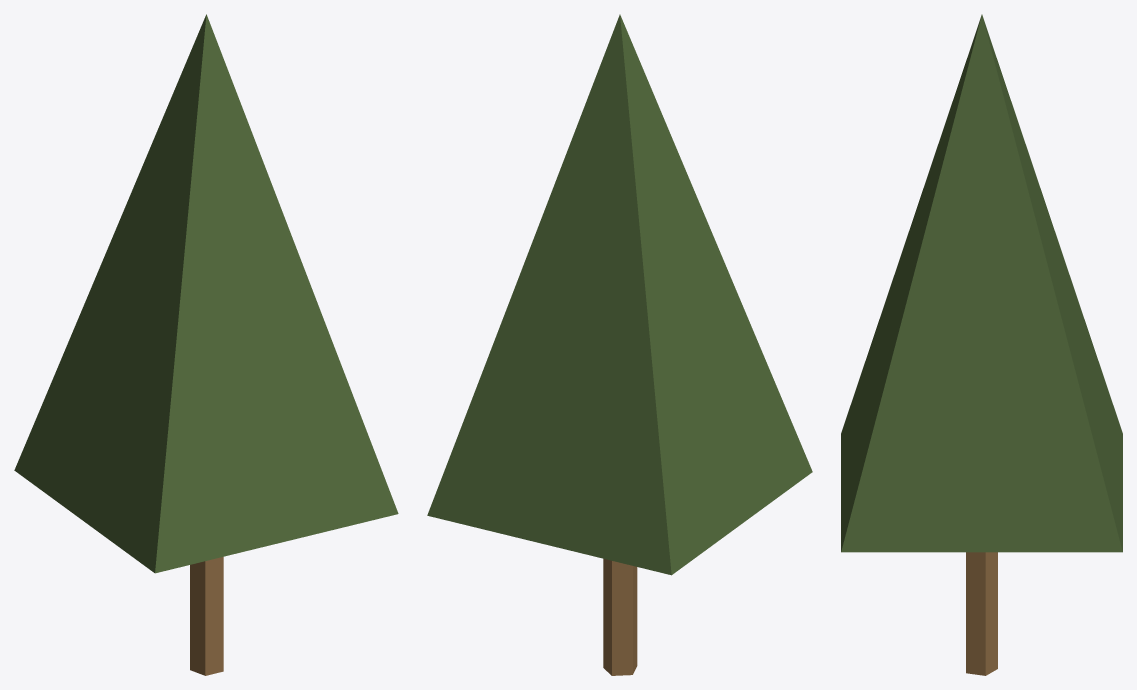
The model's file is tree_07.fbx.
The picture shows the model from 3 angles, left to right: view 1: azimuth 30°, elevation 25°; view 2: azimuth 150°, elevation 25°; view 3: azimuth 270°, elevation 25°; orthographic projection.
Visible parts, largest first — view 1: tree_07; view 2: tree_07; view 3: tree_07.
Boxes of the visible parts, x1,y1,x2,y2 form: tree_07: [14, 14, 398, 675]; tree_07: [427, 14, 812, 675]; tree_07: [841, 14, 1122, 675].
Size of the model in its own units: 206 by 528 by 206.
